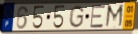5: (52, 4, 67, 30), (32, 5, 46, 30)
6: (16, 5, 30, 30)
E: (89, 4, 106, 29)
G: (68, 5, 86, 29)
M: (104, 4, 125, 29)
